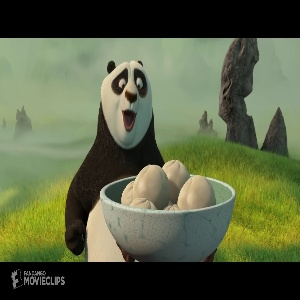po: (58, 58, 176, 264)
